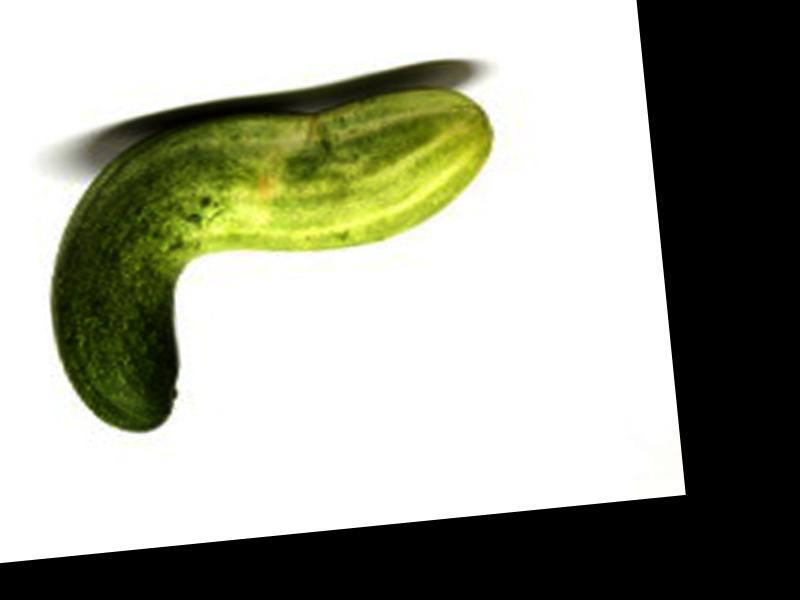Cucumber: (32, 78, 519, 439)
